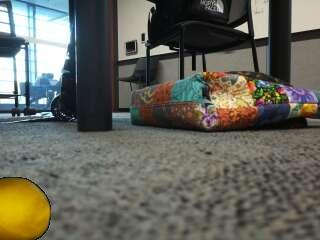lemon: (0, 178, 49, 239)
